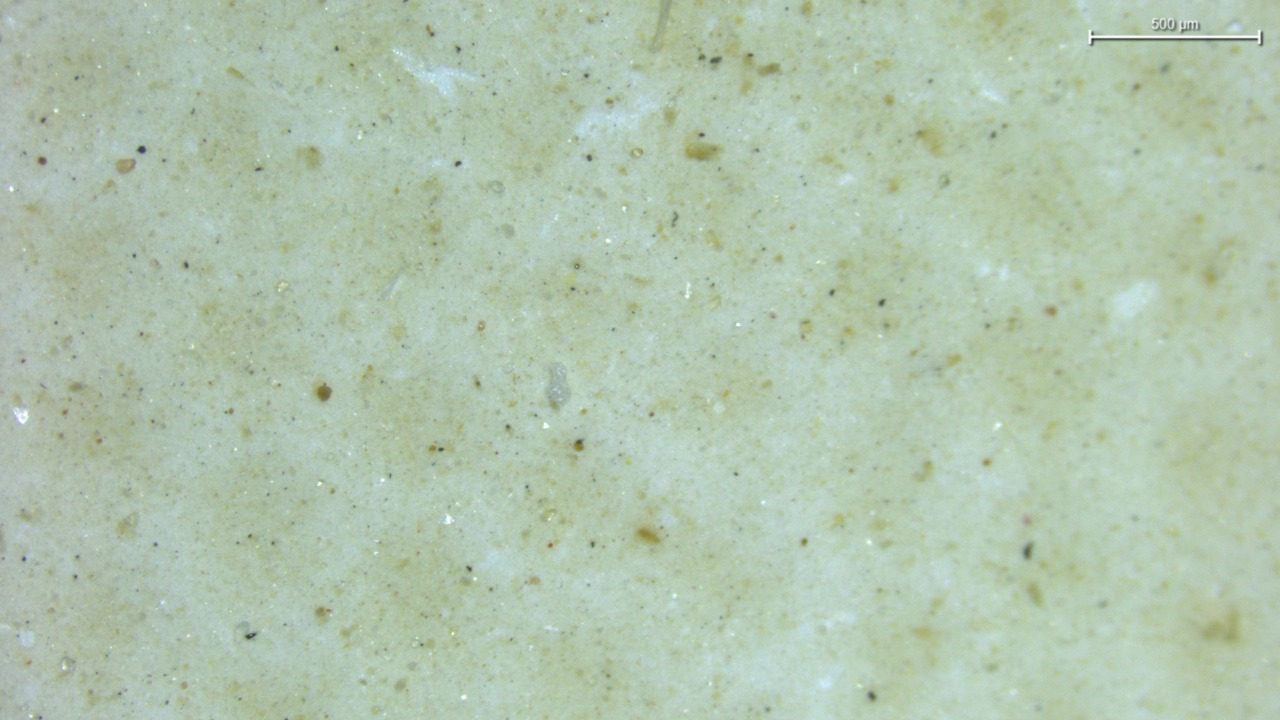microplastic_fragment: (545, 363, 571, 409)
